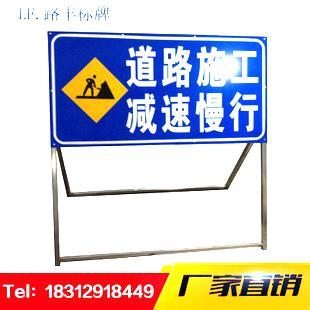sign: (46, 29, 271, 147)
